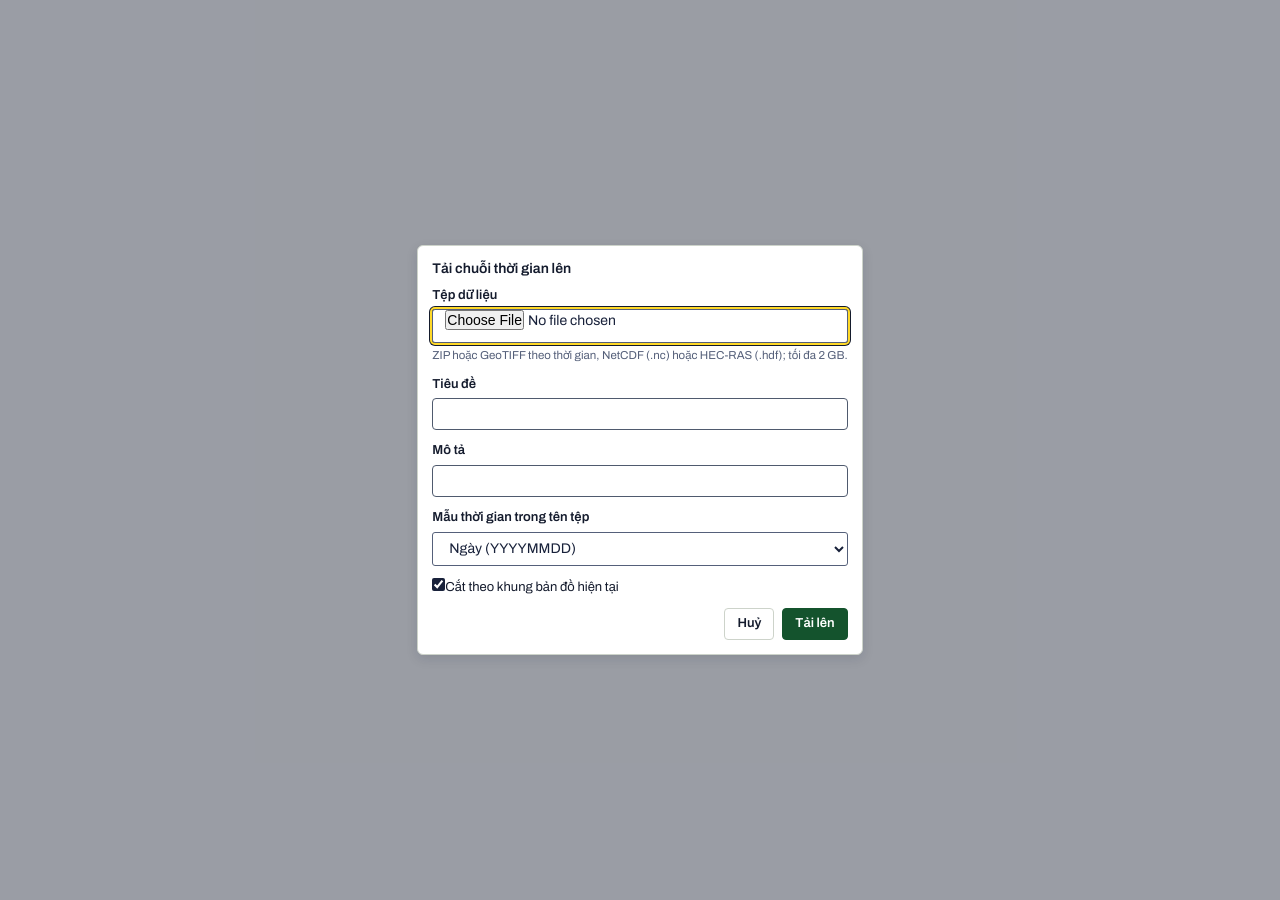
Test: TimeseriesUploadDialog › shows the API message on a 413 and keeps Huỷ a non-submitting button
The image size is (1280, 900).
Earlier steps of the test are not shown.
Step 1. Type "Mưa" into the field labelled "Tiêu đề" → {"x": 640, "y": 414}, box [432,398,848,430]
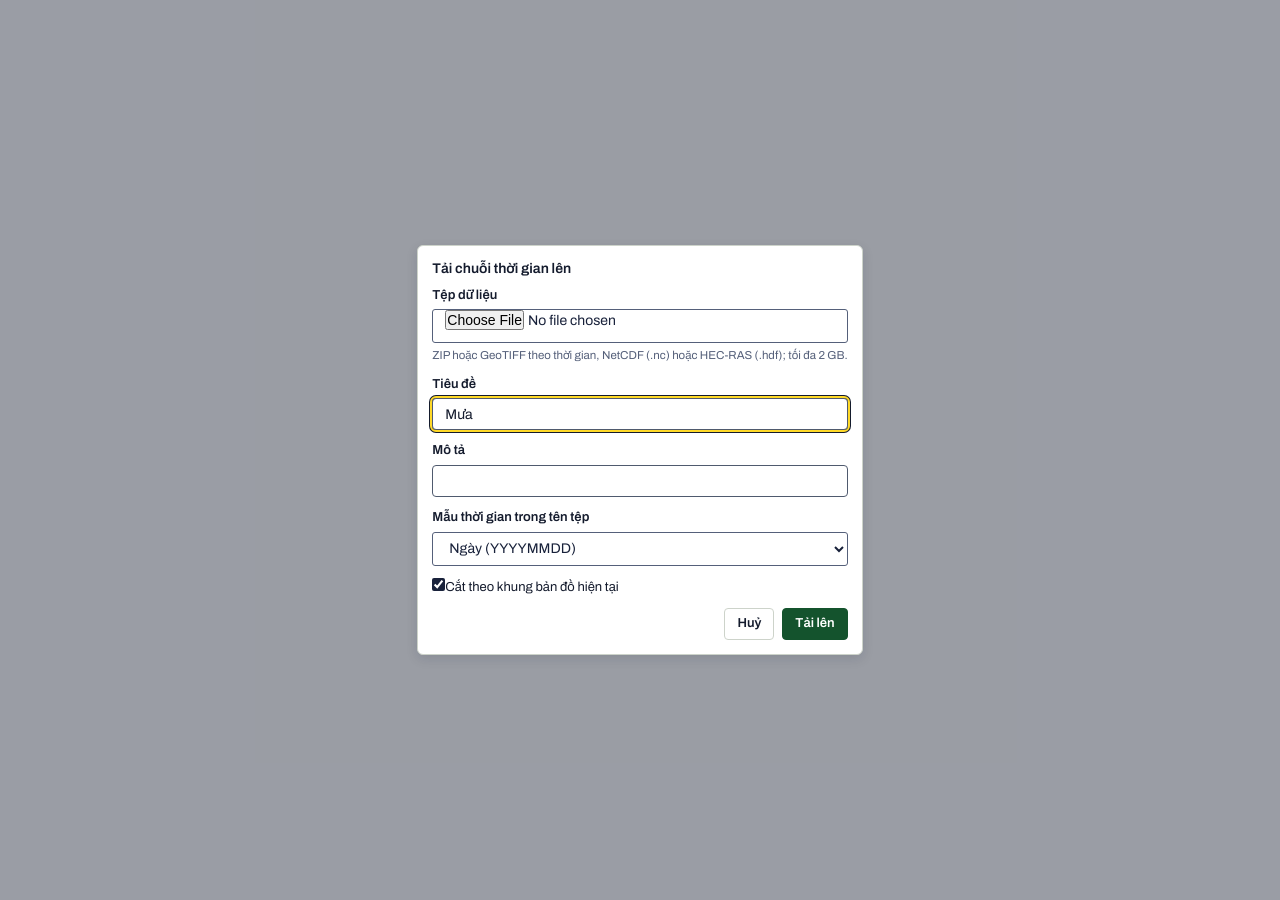
Step 2. Click the button "Tải lên" → {"x": 815, "y": 624}, box [782,608,848,640]
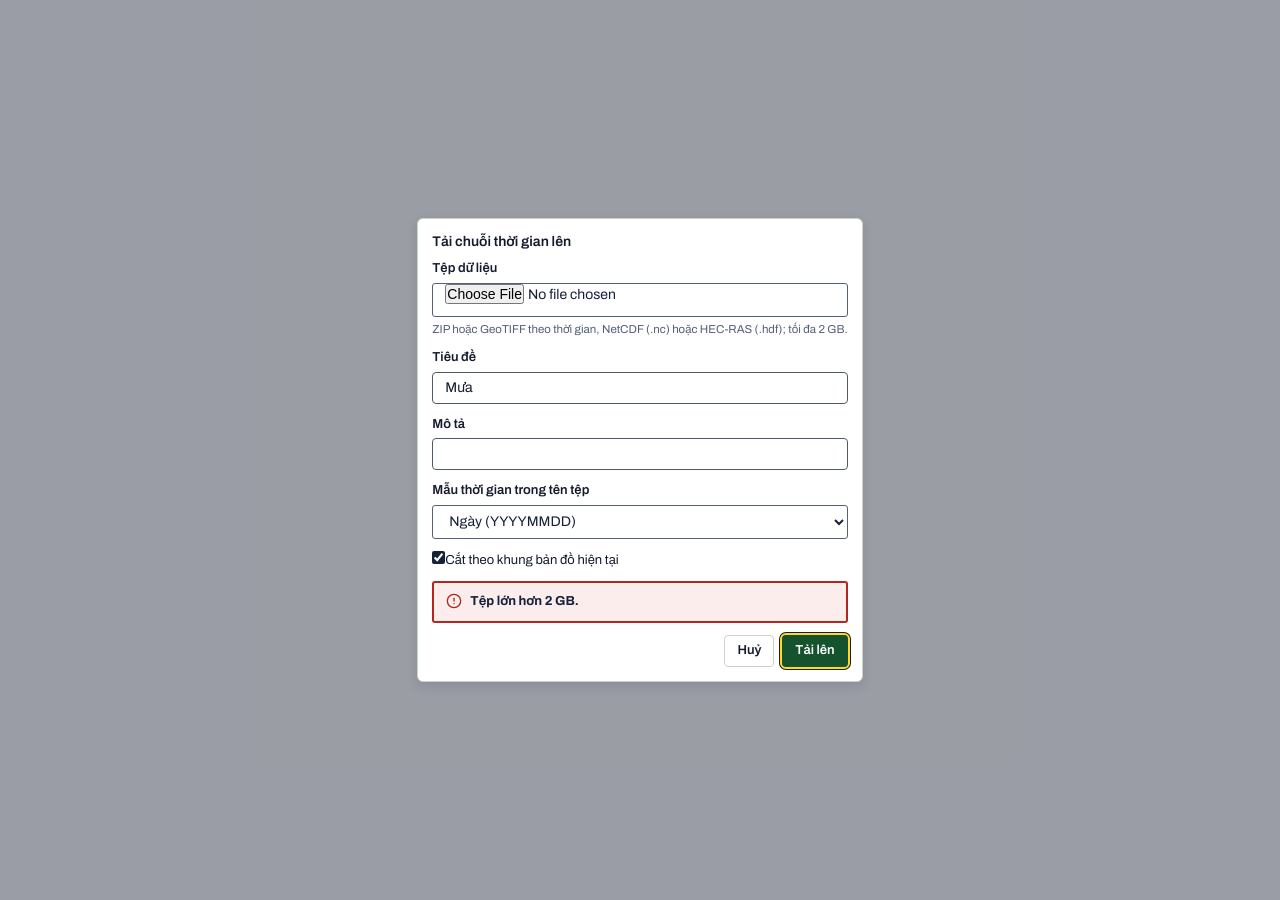
Check: the text "Tệp lớn hơn 2 GB." is shown, box [470,594,579,608]
